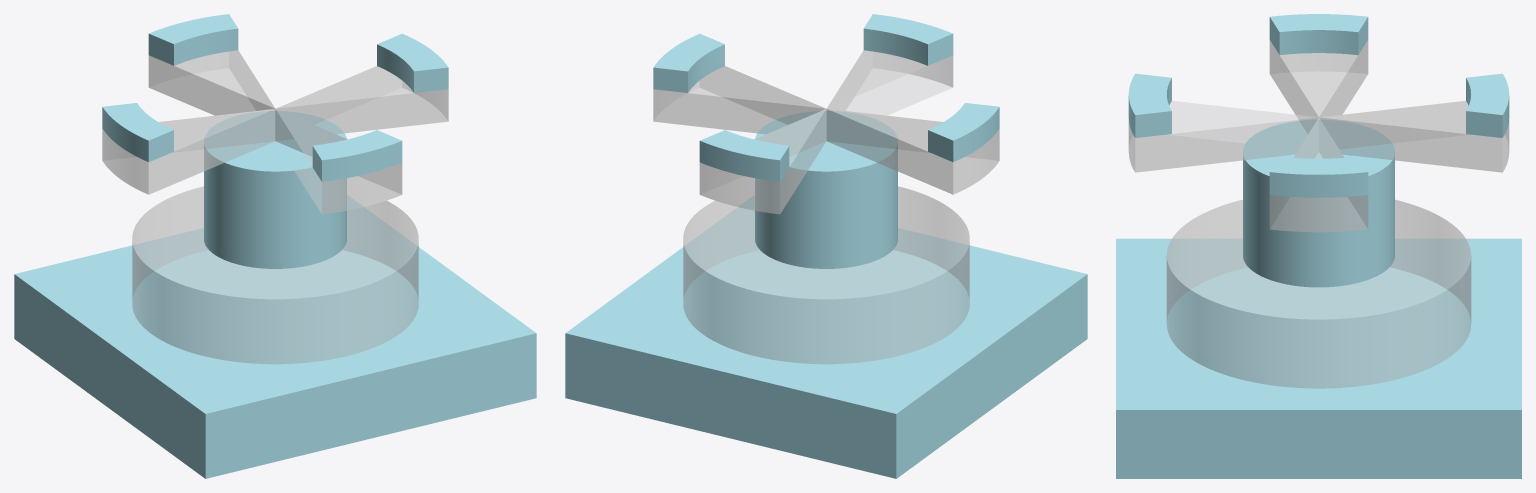
The model's file is diamond.dae.
The picture shows the model from 3 angles, left to right: view 1: azimuth 30°, elevation 25°; view 2: azimuth 150°, elevation 25°; view 3: azimuth 270°, elevation 25°; orthographic projection. The views are drawn at different scales.
Parts seen in each view (by area): view 1: base_diamond_1 (×9); view 2: base_diamond_1 (×9); view 3: base_diamond_1 (×9).
Boxes of the visible parts, left/top/right/bottom form: base_diamond_1 (×9): left=14, top=14, right=536, bottom=478; base_diamond_1 (×9): left=565, top=14, right=1087, bottom=478; base_diamond_1 (×9): left=1116, top=14, right=1521, bottom=478.
Size of the model in its own units: 315 by 315 by 256.
